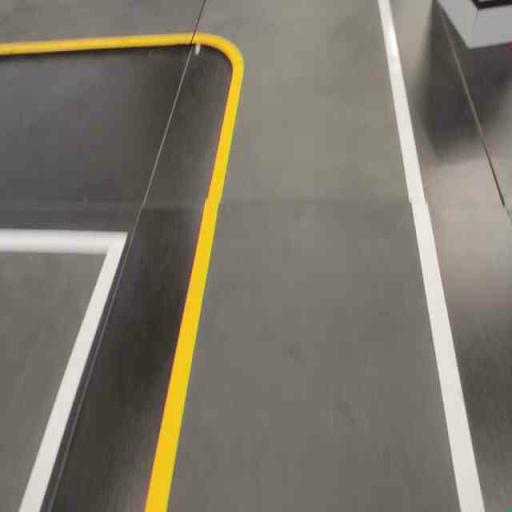straight: (113, 69, 501, 460)
